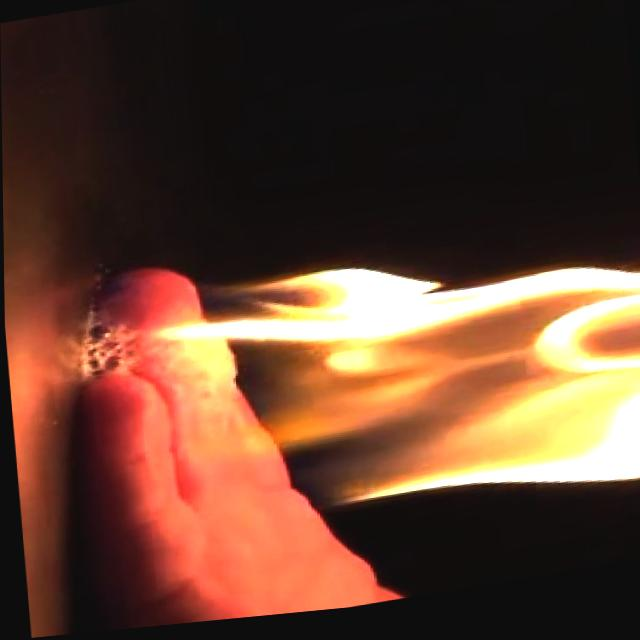helmet: (145, 214, 640, 575)
